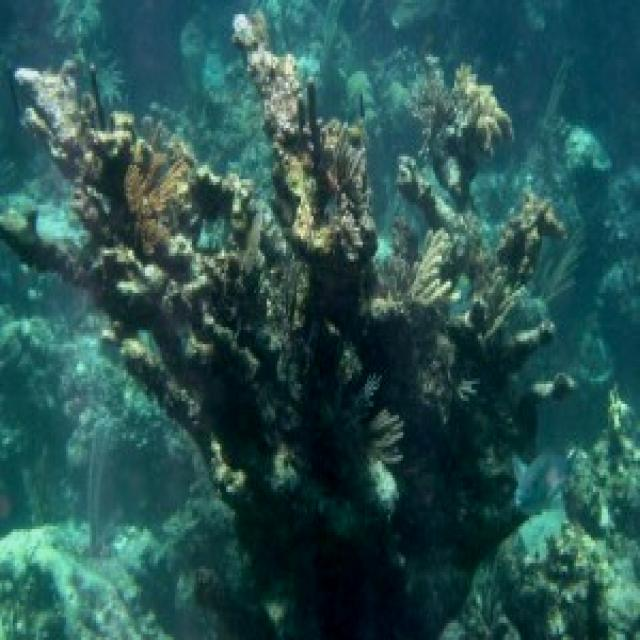Coral: (0, 8, 578, 640)
